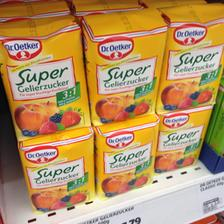Zucker: (2, 13, 90, 140), (79, 7, 167, 126), (157, 2, 223, 112), (16, 128, 96, 212), (94, 117, 158, 200), (154, 104, 210, 172)
